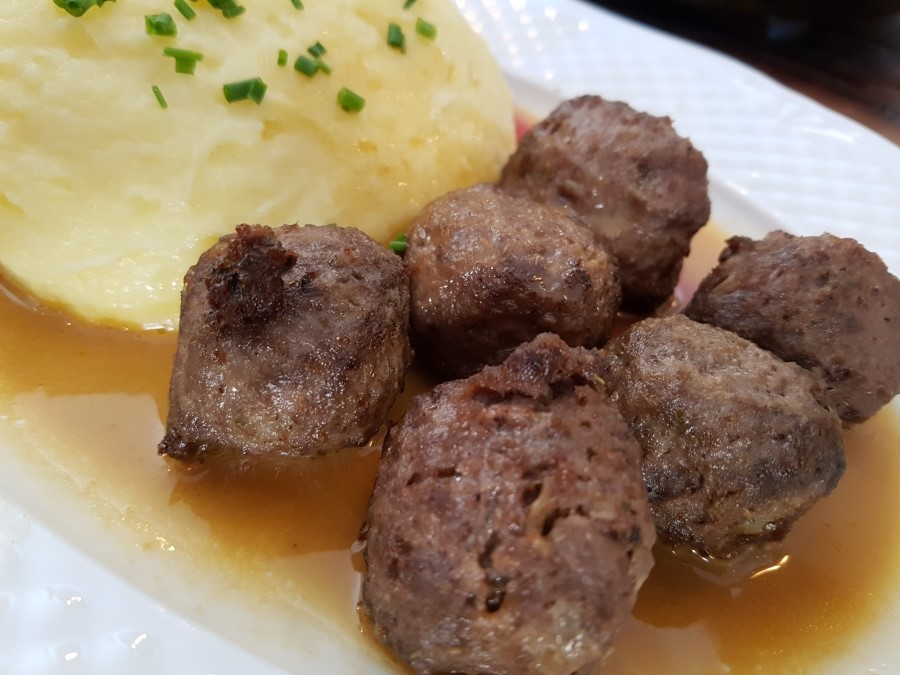boiled potatoes: (25, 6, 492, 299)
meatballs: (158, 98, 900, 661)
